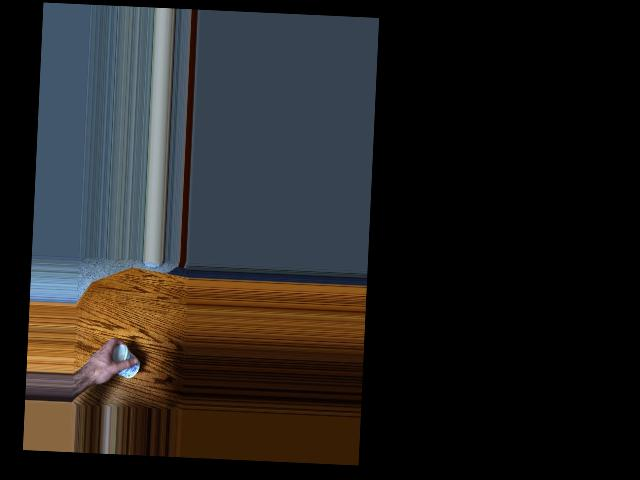cotage: (104, 342, 138, 381)
